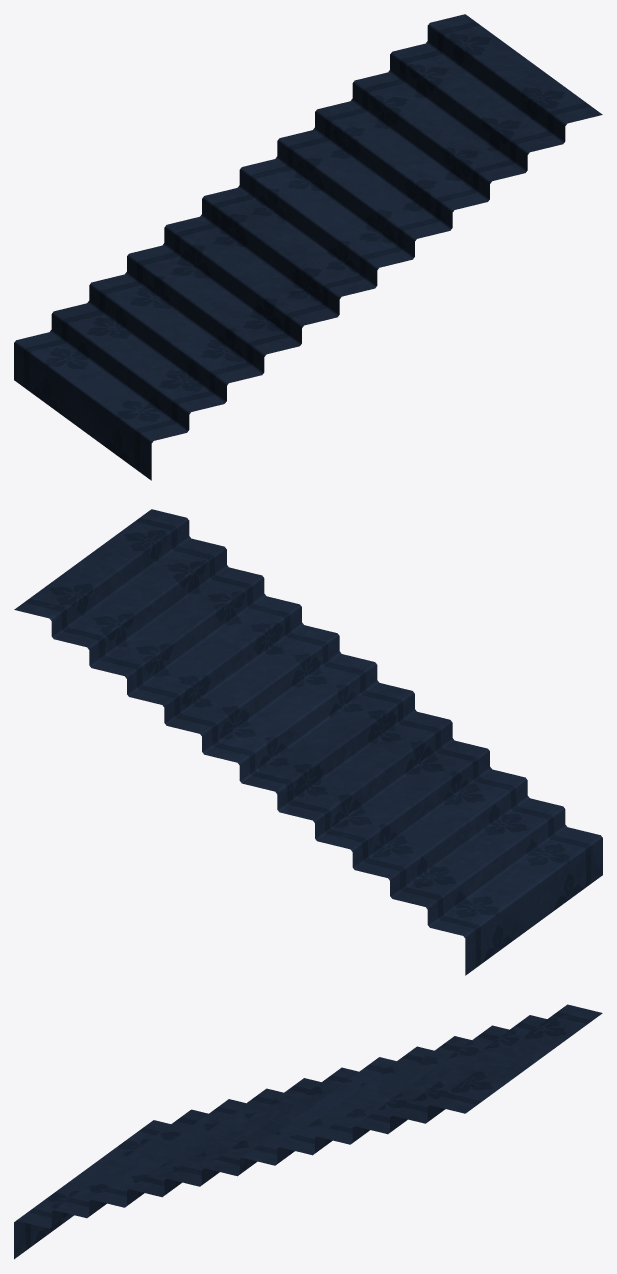
The model's file is Carpet_Stairs.fbx.
The picture shows the model from 3 angles, top to bottom: view 1: azimuth 30°, elevation 25°; view 2: azimuth 150°, elevation 25°; view 3: azimuth 330°, elevation 25°; orthographic projection.
Parts seen in each view (by area): view 1: Carpet_Stairs; view 2: Carpet_Stairs; view 3: Carpet_Stairs.
Part boxes in pixels (left/top/right/bottom): Carpet_Stairs: left=14, top=14, right=602, bottom=480; Carpet_Stairs: left=14, top=509, right=602, bottom=975; Carpet_Stairs: left=14, top=1004, right=602, bottom=1259.
Bounding box in the file's own units: 500 × 271 × 264.
Materials: 1 (1 with a texture image).
